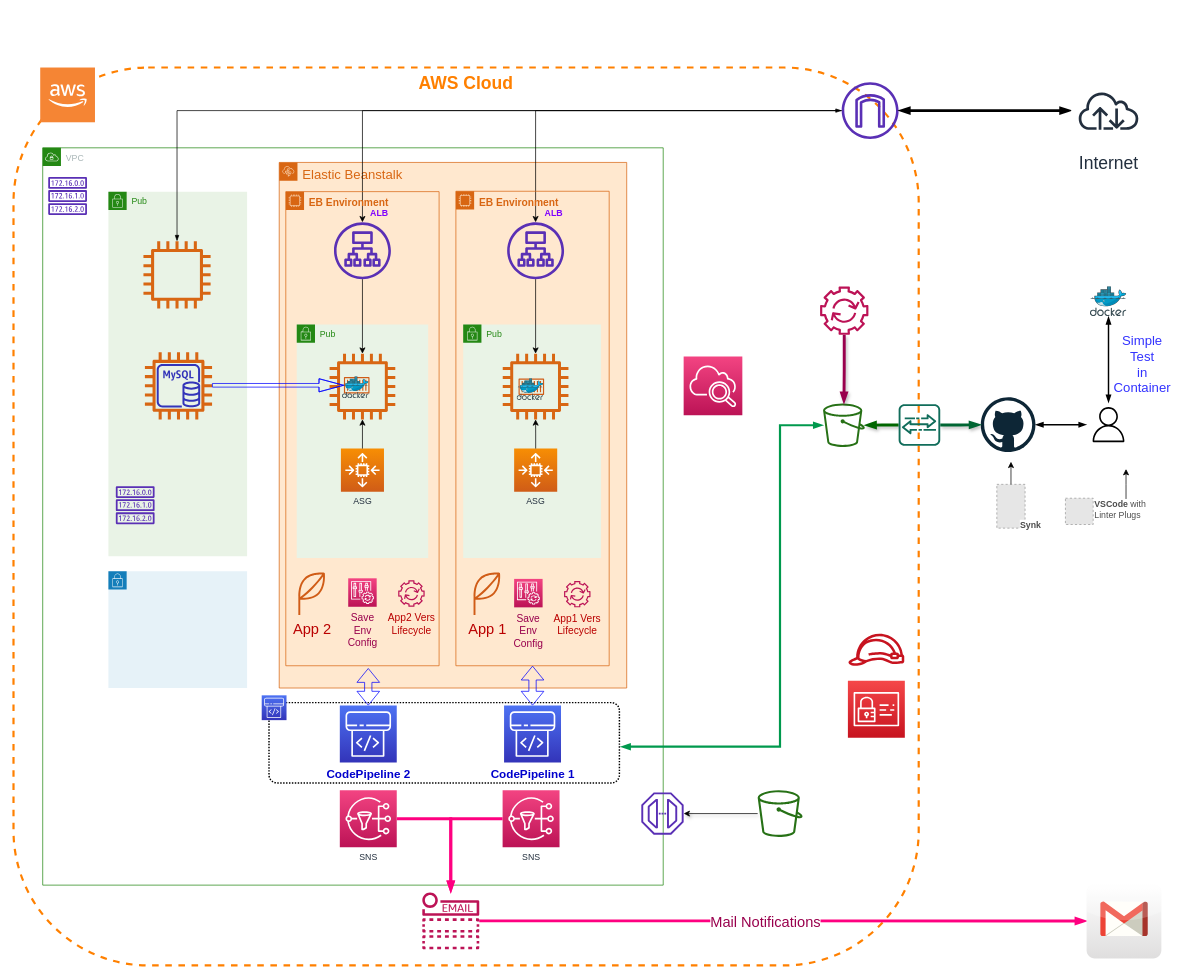
Image size: 1188x979. Some labels were removed from this diagram. Grey dashed boxes stand in for pictures. Each missing label, with the centre of its shape:
"Bastion Host" goes at (176,274).
"CloudWatch Logs Monitoring" goes at (712,385).
"Developer" goes at (1108,424).
"IGW" goes at (869,110).
"Lifecycle Configuration" goes at (844,310).
"Priv" goes at (177,629).
"Public RouteTable" goes at (134,505).
"Store Configuratuon Versions" goes at (843,425).
"VPC RouteTable" goes at (67,196).
